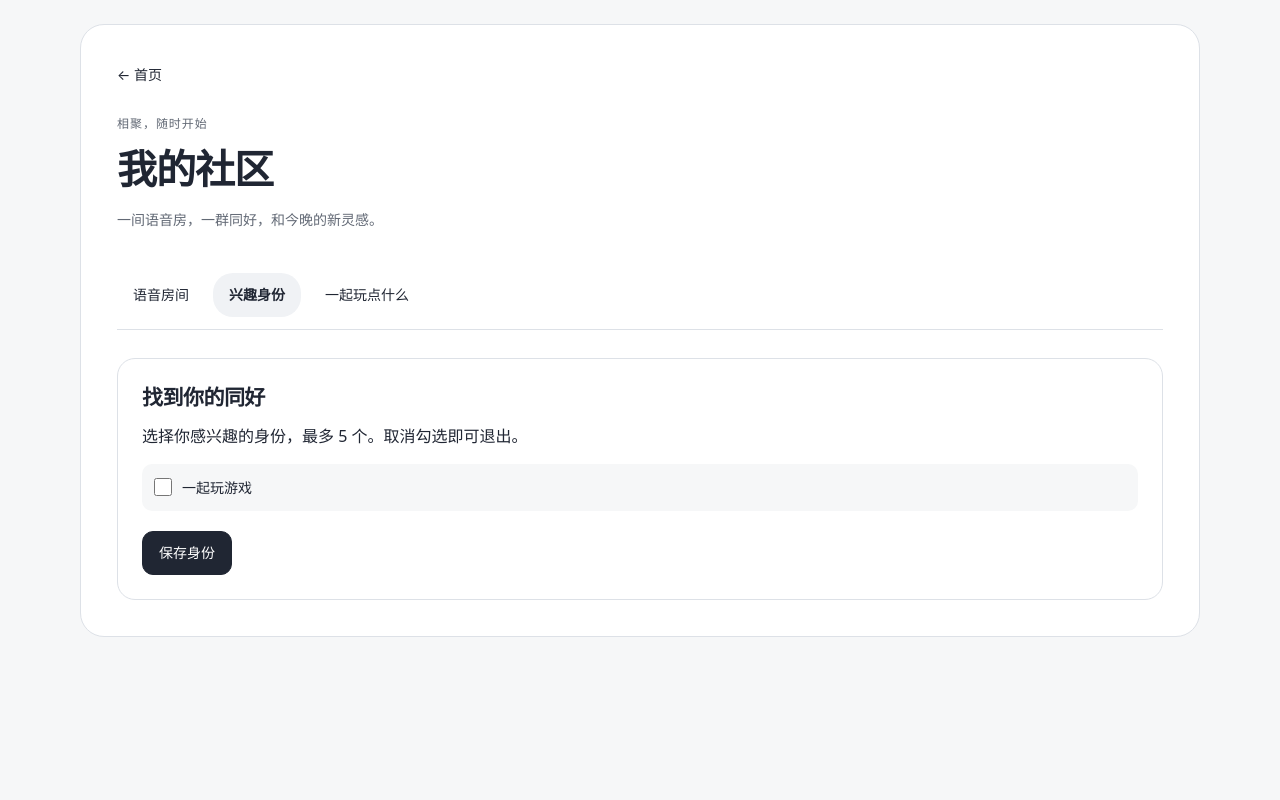
Test: drops cached member controls immediately when a write returns forbidden
Click the button "保存身份": (187, 553) x1=142 y1=531 x2=232 y2=575
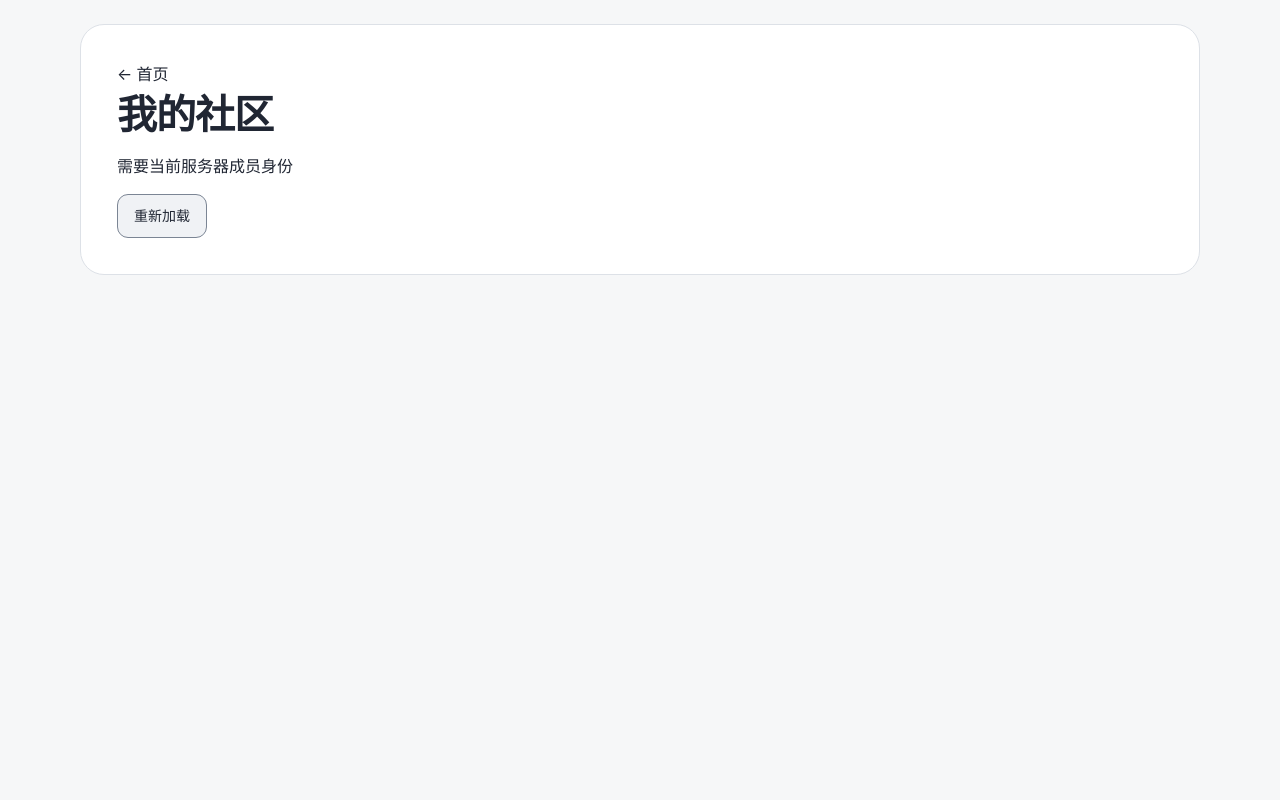
Expected: the message reads "需要当前服务器成员身份", x1=117 y1=155 x2=293 y2=177
Expected: the button "保存身份" is gone
